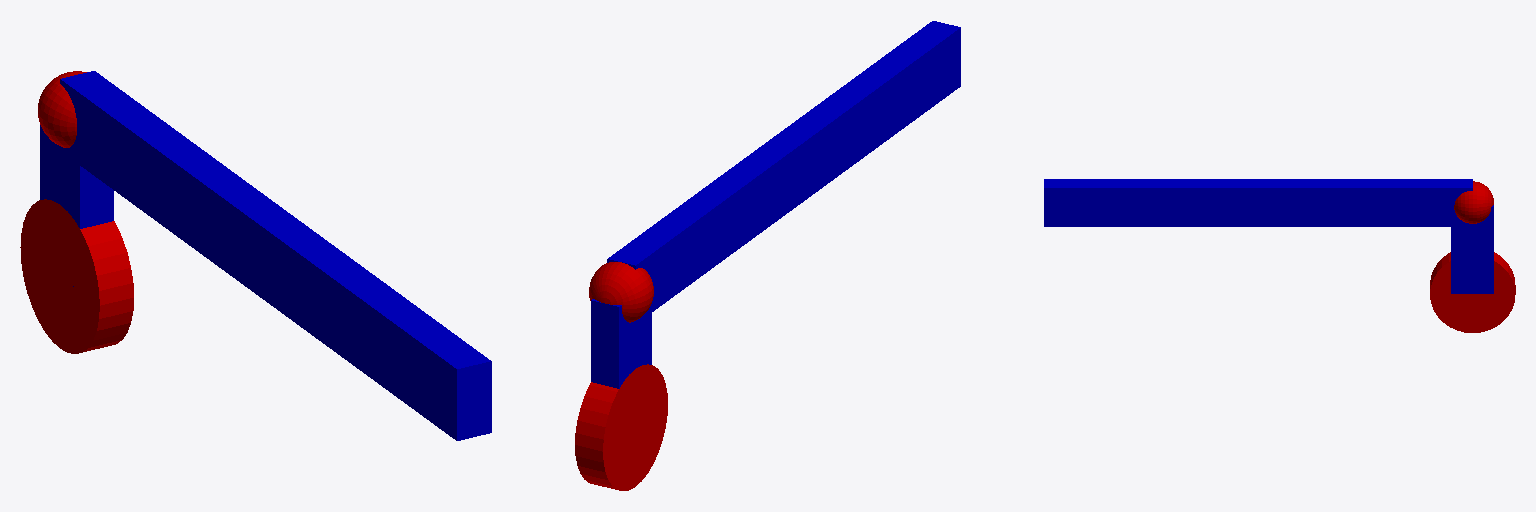
The robot description file, URDF, robot "TwoLinkStruct3335943229":
<?xml version="1.0"?>
<robot  name="TwoLinkStruct3335943229" >
 <material  name="blue" >
  <color  rgba="0 0 0.8 1.0" />
 </material>
 <material  name="red" >
  <color  rgba="0.8 0 0 1.0" />
 </material>
 <link  name="base_link" >
  <visual >
   <origin  rpy="0 1.5707 0"  xyz="0 0 0" />
   <material  name="red" />
   <geometry >
    <cylinder  length="0.05"  radius="0.1" />
   </geometry>
  </visual>
 </link>
 <joint  type="revolute"  name="joint1" >
  <parent  link="base_link" />
  <child  link="link1" />
  <origin  xyz="0 0 0"  rpy="0 0 0" />
  <axis  xyz="1 0 0" />
 </joint>
 <link  name="link1" >
  <inertial >
   <origin  rpy="0 0 0"  xyz="0 0 0.11244174599750793" />
   <mass  value="1.10447408838913" />
   <inertia  ixy="0.0"  iyy="0.00046019753682880425"  izz="0.004884774575438614"  ixz="0.0"  ixx="0.004884774575438614"  iyz="0.0" />
  </inertial>
  <visual >
   <origin  rpy="0 0 0"  xyz="0 0 0.11244174599750793" />
   <material  name="blue" />
   <geometry >
    <box  size="0.05 0.1 0.22488349199501587" />
   </geometry>
  </visual>
 </link>
 <joint  type="fixed"  name="joint-joint-1" >
  <parent  link="link1" />
  <child  link="joint-link-1" />
  <origin  xyz="0 0 0.22488349199501587"  rpy="1.5707 0 0" />
  <axis  xyz="1 0 0" />
 </joint>
 <link  name="joint-link-1" >
  <inertial >
   <origin  rpy="0 0 0"  xyz="0 0 0" />
   <mass  value="2.4385027878495293" />
   <inertia  ixy="0"  iyy="0"  izz="0"  ixz="0"  ixx="0"  iyz="0" />
  </inertial>
  <visual >
   <origin  rpy="0 0 0"  xyz="0 0 0" />
   <material  name="red" />
   <geometry >
    <sphere  radius="0.05" />
   </geometry>
  </visual>
 </link>
 <joint  type="revolute"  name="joint2" >
  <parent  link="link1" />
  <child  link="link2" />
  <origin  xyz="0 0 0.22488349199501587"  rpy="1.5707 0 0" />
  <axis  xyz="1 0 0" />
 </joint>
 <link  name="link2" >
  <inertial >
   <origin  rpy="0 0 0"  xyz="0 0 0.5" />
   <mass  value="3.784468412399292" />
   <inertia  ixy="0.0"  iyy="0.00046019753682880425"  izz="0.09226960613417523"  ixz="0.0"  ixx="0.09226960613417523"  iyz="0.0" />
  </inertial>
  <visual >
   <origin  rpy="0 0 0"  xyz="0 0 0.5" />
   <material  name="blue" />
   <geometry >
    <box  size="0.05 0.1 1.0" />
   </geometry>
  </visual>
 </link>
 <joint  type="fixed"  name="eef_joint" >
  <parent  link="link2" />
  <child  link="eef" />
  <origin  xyz="0 0 1.0"  rpy="0 0 0" />
 </joint>
 <link  name="eef" >
  <inertial >
   <origin  rpy="0 0 0"  xyz="0 0 0" />
   <mass  value="1" />
   <inertia  ixy="0"  iyy="0"  izz="0"  ixz="0"  ixx="0"  iyz="0" />
  </inertial>
 </link>
 <transmission  name="motor1" >
  <type  xmltext="SimpleTransmission" >
   SimpleTransmission
  </type>
  <actuator  name="motor1" >
   <mechanicalreduction  xmltext="1" >
    1
   </mechanicalreduction>
  </actuator>
  <joint  name="joint1" />
 </transmission>
 <transmission  name="motor2" >
  <type  xmltext="SimpleTransmission" >
   SimpleTransmission
  </type>
  <actuator  name="motor2" >
   <mechanicalreduction  xmltext="1" >
    1
   </mechanicalreduction>
  </actuator>
  <joint  name="joint2" />
 </transmission>
</robot>

<!-- {'carti': array([-0.1 ,  0.14,  0.85]), 'cartd': array([-0.1 ,  0.32,  1.29]), 'tau_mu': 1.0, 'b0': 0.08146571226878363, 'Km': 2.1117157990743336, 'k_velocity': 92.99961945611922, 'tau_max_m': 5.0, 'omega_max_m': 1000.0, 'gear_ratio': 8.398708143714405, 'Kp': 5.398177038704268, 'Kd': 76.05856745400693, 'm_m': 2.4385027878495293, 'l1': 0.22488349199501587, 'l2': 1.0, 'k1': 4823.216728782148, 'k2': 259995764.98729283, 'k3': 353666648.65321076}-->

--- Render facts (derived) ---
The picture shows the robot from 3 angles, left to right: view 1: azimuth 30°, elevation 25°; view 2: azimuth 150°, elevation 25°; view 3: azimuth 270°, elevation 25°; orthographic projection.
Model TwoLinkStruct3335943229 with 5 links and 4 joints (2 revolute, 2 fixed), rooted at base_link, posed every joint at zero.
Visible links, largest first — view 1: link2, base_link, link1, joint-link-1; view 2: link2, base_link, link1, joint-link-1; view 3: link2, base_link, link1, joint-link-1.
Link boxes in pixels (x1,y1,x2,y2): link2: (60,71,491,440); base_link: (20,199,133,353); link1: (40,125,113,286); joint-link-1: (38,71,86,147); link2: (607,21,960,322); base_link: (575,364,667,490); link1: (591,299,651,388); joint-link-1: (589,262,653,322); link2: (1044,179,1472,226); base_link: (1430,252,1515,332); link1: (1451,205,1493,293); joint-link-1: (1454,181,1493,223).
Size in the robot's own frame: 0.1 by 1.1 by 0.375 metres.
Geometry: primitives only (box / cylinder / sphere), no mesh files.
